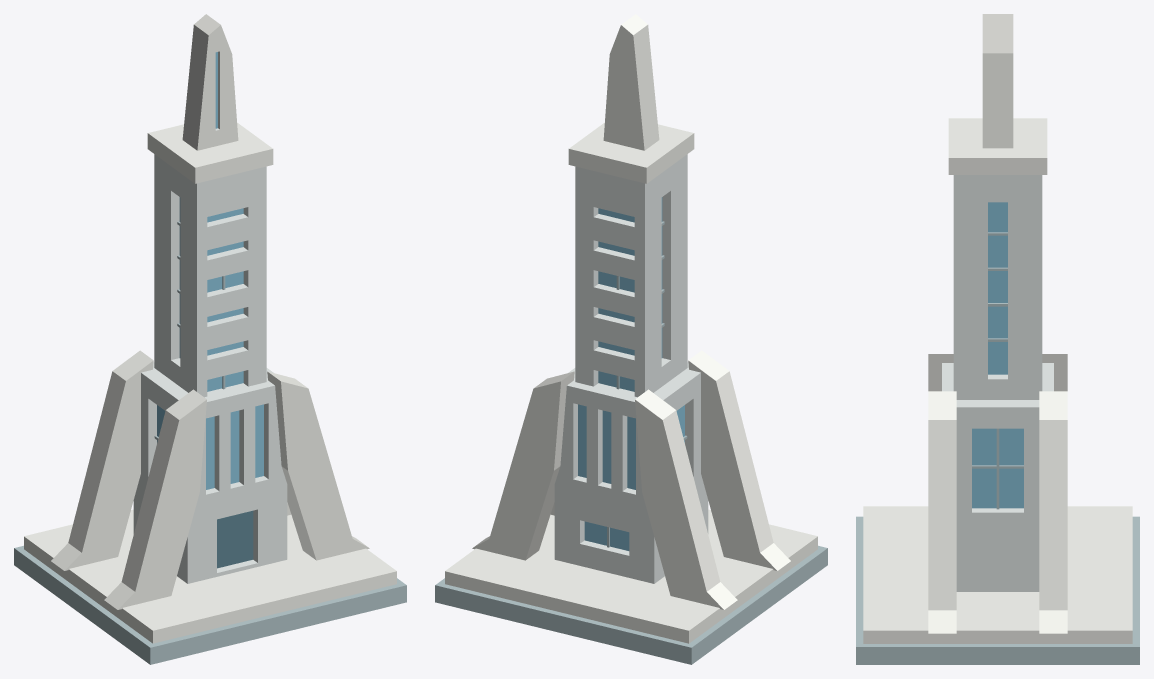
File: 04_antenna_spire.glb
The picture shows the model from 3 angles, left to right: view 1: azimuth 30°, elevation 25°; view 2: azimuth 150°, elevation 25°; view 3: azimuth 270°, elevation 25°; orthographic projection. The views are drawn at different scales.
Visible parts, largest first — view 1: splayed_leg (×3), upper_shaft, plinth, lower_core, foundation, antenna_fin, shaft_cap, inset_glass (×3), inset_backing, window_reveal_geometry; view 2: splayed_leg (×3), upper_shaft, plinth, lower_core, foundation, antenna_fin, shaft_cap, inset_glass (×4), window_reveal_geometry; view 3: plinth, upper_shaft, splayed_leg (×4), lower_core, foundation, inset_glass (×2), shaft_cap, antenna_fin.
Part boxes in pixels (left/top/right/bottom): splayed_leg (×3): left=51, top=350, right=369, bottom=609; upper_shaft: left=154, top=154, right=266, bottom=397; plinth: left=24, top=509, right=396, bottom=643; lower_core: left=133, top=362, right=287, bottom=583; foundation: left=14, top=545, right=406, bottom=664; antenna_fin: left=182, top=14, right=238, bottom=150; shaft_cap: left=147, top=122, right=273, bottom=183; inset_glass (×3): left=206, top=404, right=263, bottom=489; inset_backing: left=217, top=510, right=253, bottom=568; window_reveal_geometry: left=171, top=191, right=179, bottom=359; splayed_leg (×3): left=472, top=350, right=790, bottom=609; upper_shaft: left=575, top=154, right=687, bottom=397; plinth: left=445, top=509, right=817, bottom=643; lower_core: left=554, top=362, right=708, bottom=583; foundation: left=435, top=545, right=827, bottom=664; antenna_fin: left=603, top=14, right=659, bottom=150; shaft_cap: left=568, top=122, right=694, bottom=183; inset_glass (×4): left=578, top=404, right=635, bottom=550; window_reveal_geometry: left=662, top=191, right=670, bottom=359; plinth: left=863, top=506, right=1132, bottom=643; upper_shaft: left=953, top=175, right=1042, bottom=399; splayed_leg (×4): left=928, top=354, right=1067, bottom=633; lower_core: left=942, top=363, right=1053, bottom=591; foundation: left=856, top=516, right=1139, bottom=664; inset_glass (×2): left=972, top=202, right=1023, bottom=508; shaft_cap: left=948, top=118, right=1047, bottom=174; antenna_fin: left=982, top=14, right=1013, bottom=148.
Size of the model in its own units: 2.5 by 5.25 by 2.3.
